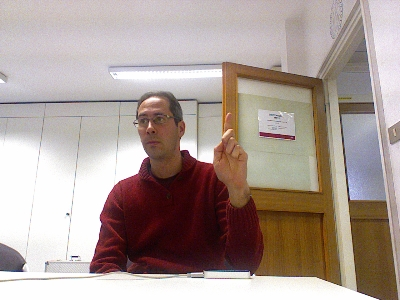食指: (212, 111, 249, 188)
